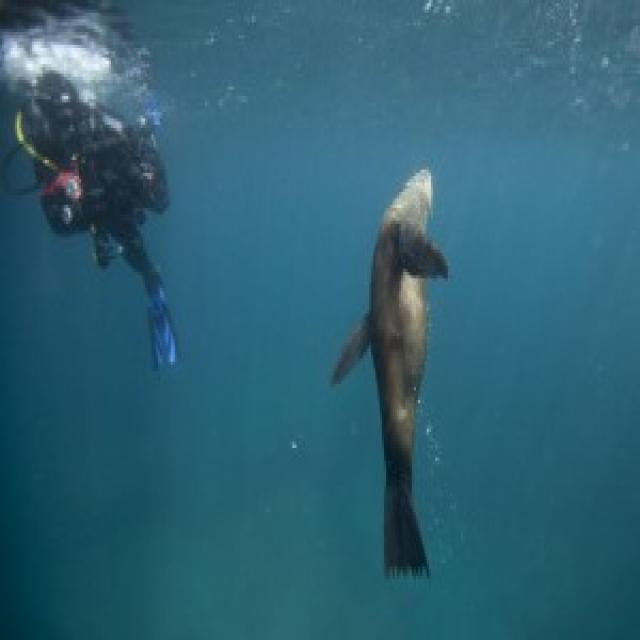Seal: (320, 154, 454, 590)
